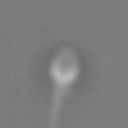normal: (42, 84, 77, 128)
